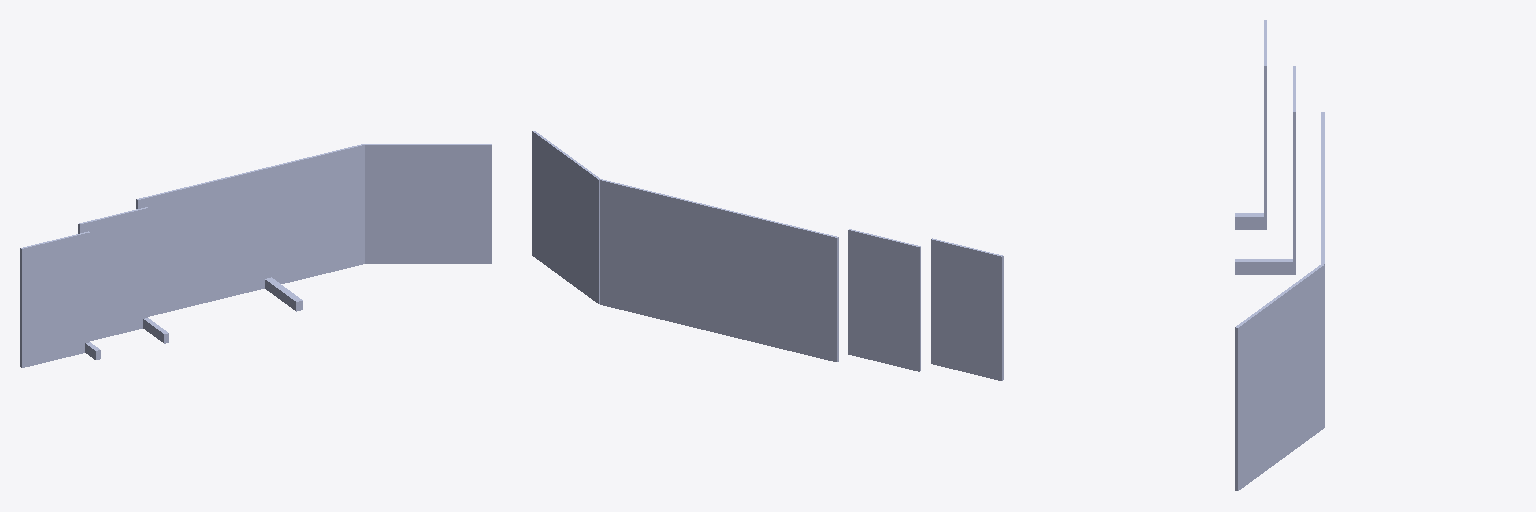
robot.urdf — map:
<?xml version="1.0" encoding="utf-8"?>
<!-- This URDF was automatically created by SolidWorks to URDF Exporter! Originally created by [author] ([email redacted]) 
     Commit Version: 1.6.0-4-g7f85cfe  Build Version: 1.6.7995.38578
     For more information, please see http://wiki.ros.org/sw_urdf_exporter -->
<robot
  name="map">
  <link
    name="map">
    <inertial>
      <origin
        xyz="7.5814E-16 7.67928484115444E-17 -0.005"
        rpy="0 0 0" />
      <mass
        value="10.8743305439247" />
      <inertia
        ixx="0.259234156400345"
        ixy="0.0106249943278347"
        ixz="-0.0243069692160453"
        iyy="0.494091142445221"
        iyz="0.0108471339129111"
        izz="0.716250160869741" />
    </inertial>
    <visual>
      <origin
        xyz="0 0 0"
        rpy="0 0 0" />
      <geometry>
        <mesh
          filename="package://map/meshes/map.STL" />
      </geometry>
      <material
        name="">
        <color
          rgba="0.792156862745098 0.819607843137255 0.933333333333333 1" />
      </material>
    </visual>
    <collision>
      <origin
        xyz="0 0 0"
        rpy="0 0 0" />
      <geometry>
        <mesh
          filename="package://map/meshes/map.STL" />
      </geometry>
    </collision>
  </link>
</robot>

--- Render facts (derived) ---
Views: 3 orthographic renders of the robot side by side, from view 1: azimuth 30°, elevation 25°; view 2: azimuth 150°, elevation 25°; view 3: azimuth 270°, elevation 25°.
Robot: map — 1 links, 0 joints (none); root link map; default pose: all joints at 0.
Visible links, largest first — view 1: map; view 2: map; view 3: map.
Link boxes in pixels (<box>): map: <box>20,144,491,367</box>; map: <box>532,131,1003,380</box>; map: <box>1235,20,1324,490</box>.
Size in the robot's own frame: 2.02 by 0.25 by 0.5 metres.
1 mesh visuals loaded from 1 distinct referenced files (1 binary STL).